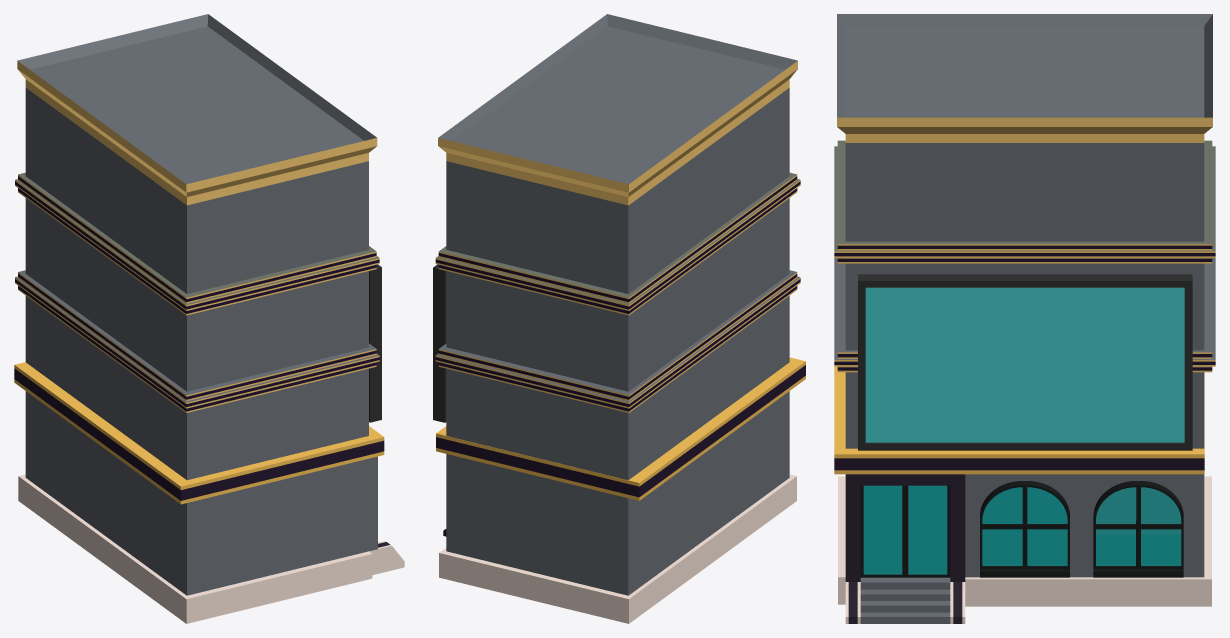
File: PropBuilding_3.fbx
3 views of the same model, side by side, from view 1: azimuth 30°, elevation 25°; view 2: azimuth 150°, elevation 25°; view 3: azimuth 270°, elevation 25° (orthographic). The views are drawn at different scales.
Parts seen in each view (by area): view 1: PropBulding3_Body, PropBuilding3_Billboard; view 2: PropBulding3_Body, PropBuilding3_Billboard; view 3: PropBulding3_Body, PropBuilding3_Billboard, PropBulding3_Door, PropBulding3_Window_2, PropBulding3_Window.
Part boxes in pixels (x1,y1,x2,y2): PropBulding3_Body: (14,14,404,623); PropBuilding3_Billboard: (369,264,381,422); PropBulding3_Body: (435,14,805,623); PropBuilding3_Billboard: (433,264,446,422); PropBulding3_Body: (834,14,1215,623); PropBuilding3_Billboard: (858,274,1192,450); PropBulding3_Door: (860,485,950,577); PropBulding3_Window_2: (1093,481,1183,577); PropBulding3_Window: (980,481,1069,577).
Size of the model in its own units: 1582 by 2909 by 2054.
5 materials, 5 textured.
